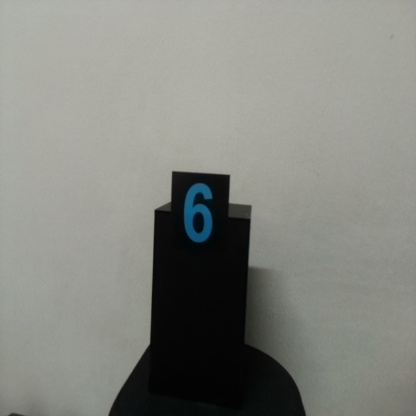id_6: (170, 173, 230, 270)
